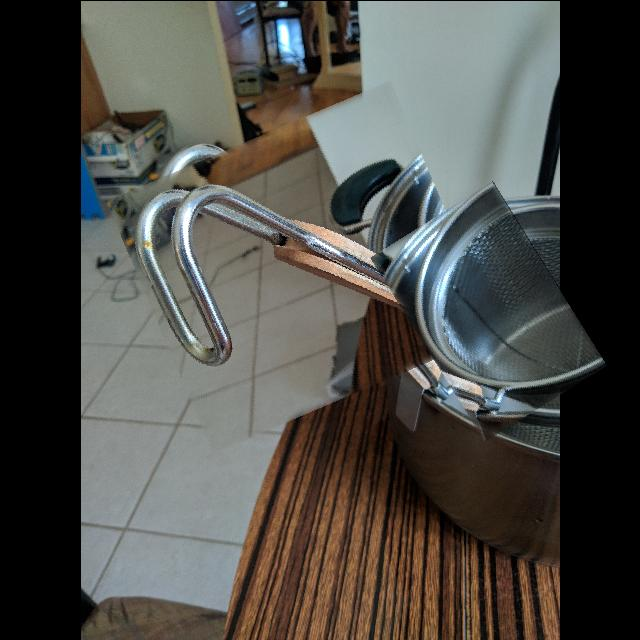Handle: (120, 177, 484, 391)
Strainer: (411, 180, 606, 389)
